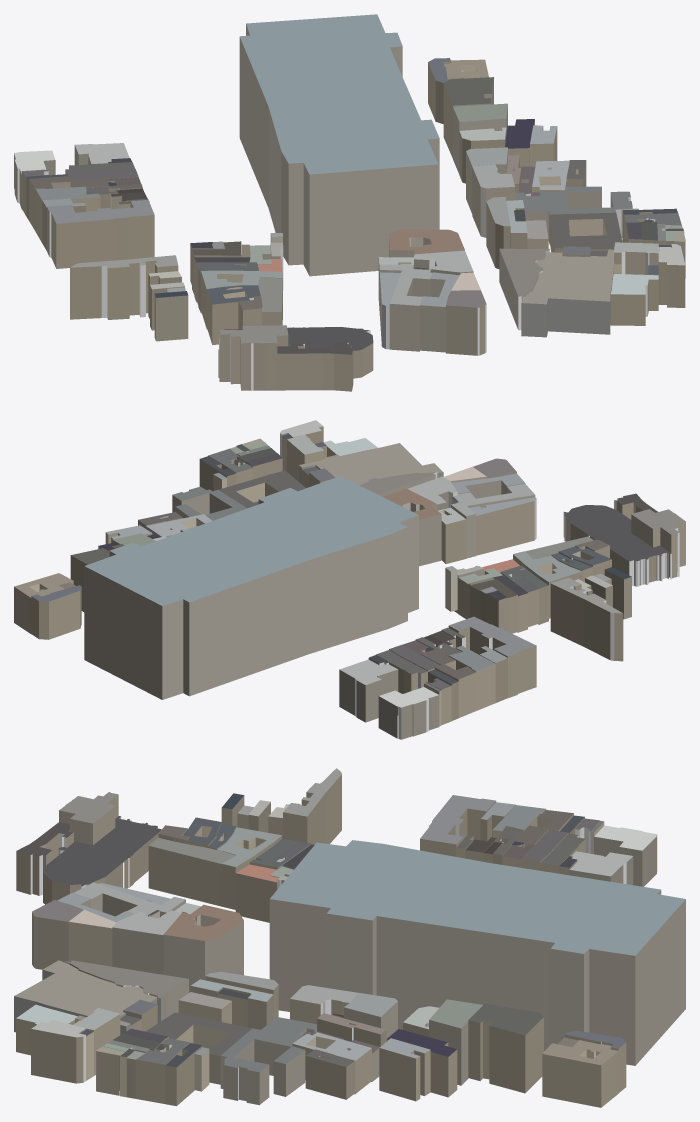
The picture shows the model from 3 angles, top to bottom: view 1: azimuth 30°, elevation 25°; view 2: azimuth 150°, elevation 25°; view 3: azimuth 270°, elevation 25°; orthographic projection. The views are drawn at different scales.
Visible parts, largest first — view 1: tuile; view 2: tuile; view 3: tuile.
Boxes of the visible parts, x1,y1,x2,y2 form: tuile: (14, 14, 685, 391); tuile: (14, 420, 685, 739); tuile: (14, 768, 685, 1107).
Size of the model in its own units: 286 by 51.67 by 286.
